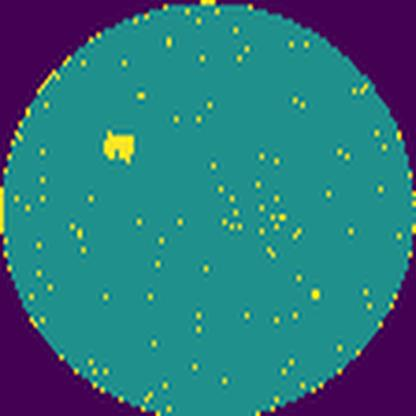Loc: (102, 128, 134, 164)
